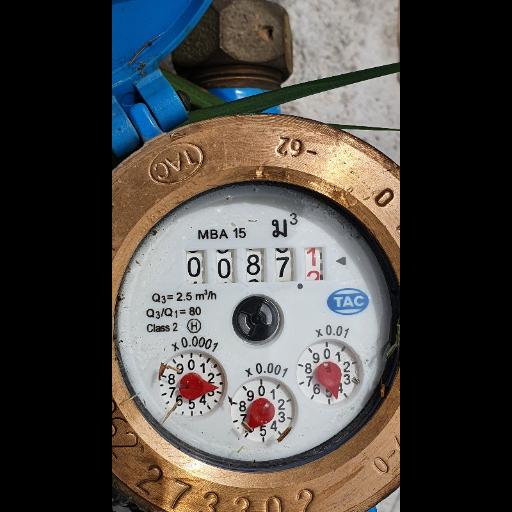0: (186, 250, 206, 284), (216, 250, 236, 284)
1: (303, 247, 324, 281)
7: (275, 248, 294, 282)
8: (244, 248, 263, 282)
border_water_meter_number: (186, 246, 324, 284)
